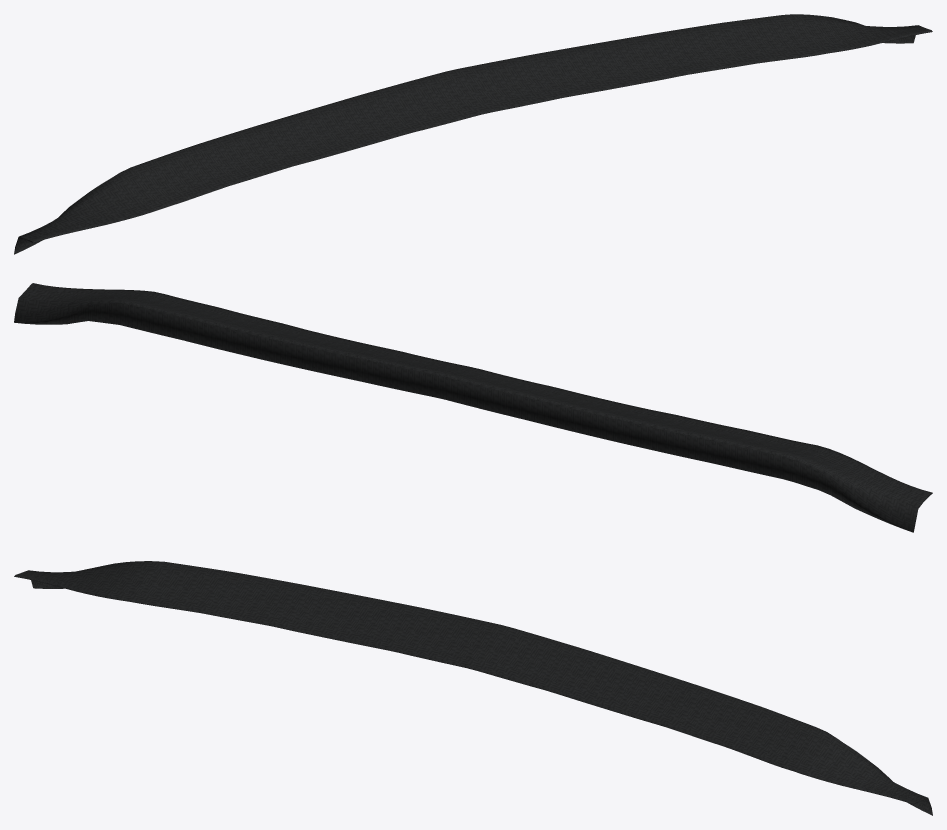
Rendered from RA45_carbon_ducktail.glb.
3 renders of one model, top to bottom at view 1: azimuth 30°, elevation 25°; view 2: azimuth 150°, elevation 25°; view 3: azimuth 330°, elevation 25°, orthographic.
Parts seen in each view (by area): view 1: MOD_NA_RA45_spoiler; view 2: MOD_NA_RA45_spoiler; view 3: MOD_NA_RA45_spoiler.
Part boxes in pixels (x1,y1,x2,y2): MOD_NA_RA45_spoiler: (14, 14, 932, 254); MOD_NA_RA45_spoiler: (14, 283, 932, 532); MOD_NA_RA45_spoiler: (14, 561, 932, 815).
Bounding box in the file's own units: 0.86 × 0.0634 × 0.0771.
1 material, 1 textured.
